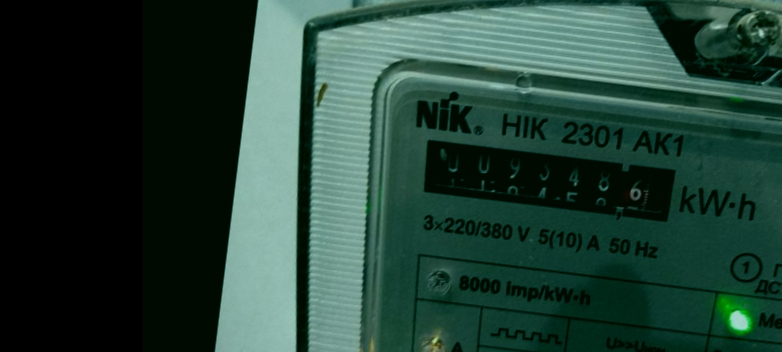0: (446, 146, 462, 173), (476, 150, 494, 174)
3: (536, 156, 554, 184)
4: (566, 160, 583, 188)
6: (627, 174, 647, 203)
8: (596, 165, 614, 194)
9: (506, 153, 524, 181)
screen: (411, 130, 687, 232)
